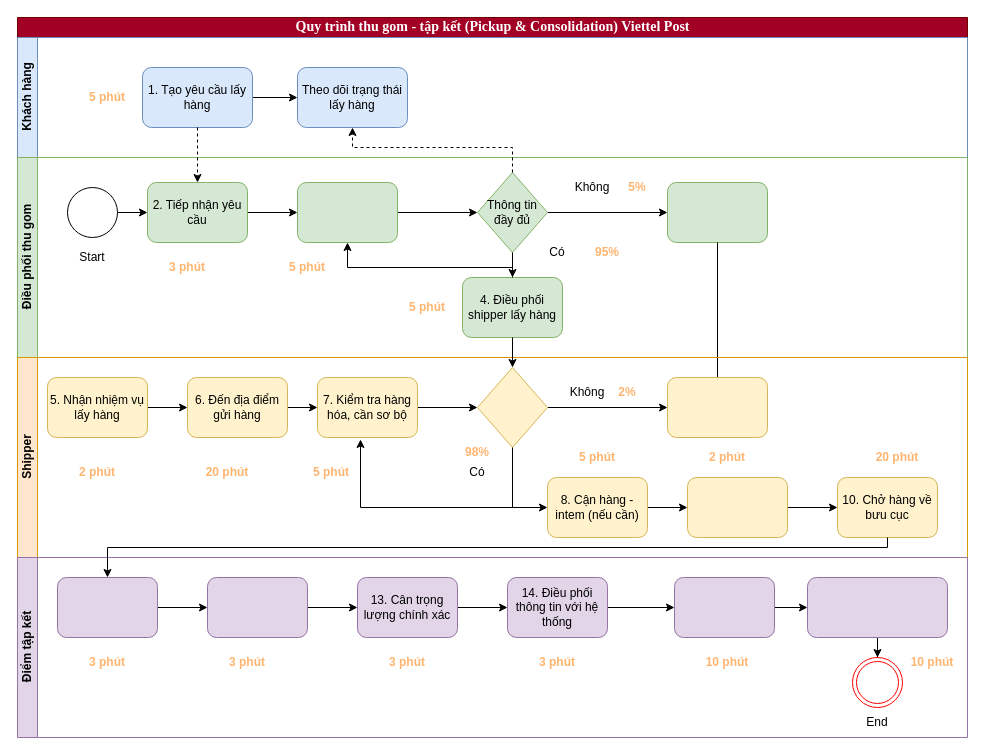
This 985x755 diagram has some shape labels left out. Here are the shapes that lost their labels. From the top down, the centre of each, then its label:
pixel 347 212: 3. Kiểm tra thông tin đơn hàng
pixel 717 212: Yêu cầu bổ sung thông tin
pixel 512 407: Hàng đạt yêu cầu
pixel 717 407: Yêu cầu khách đóng gói lại hoặc từ chối nhận
pixel 737 507: 9. Cập nhật trạng thái "Đã lấy hàng"
pixel 107 607: 11. Tiếp nhận hàng tại bưu cục
pixel 257 607: 12. Quét mã vận đơn
pixel 724 607: 15. Phân loại sơ bộ theo tuyến
pixel 877 607: 16. Sắp xếp chờ chuyển lên trung tâm khai thác
